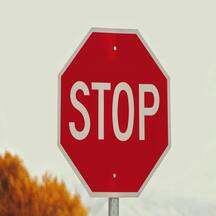Circle: (56, 26, 172, 196)
